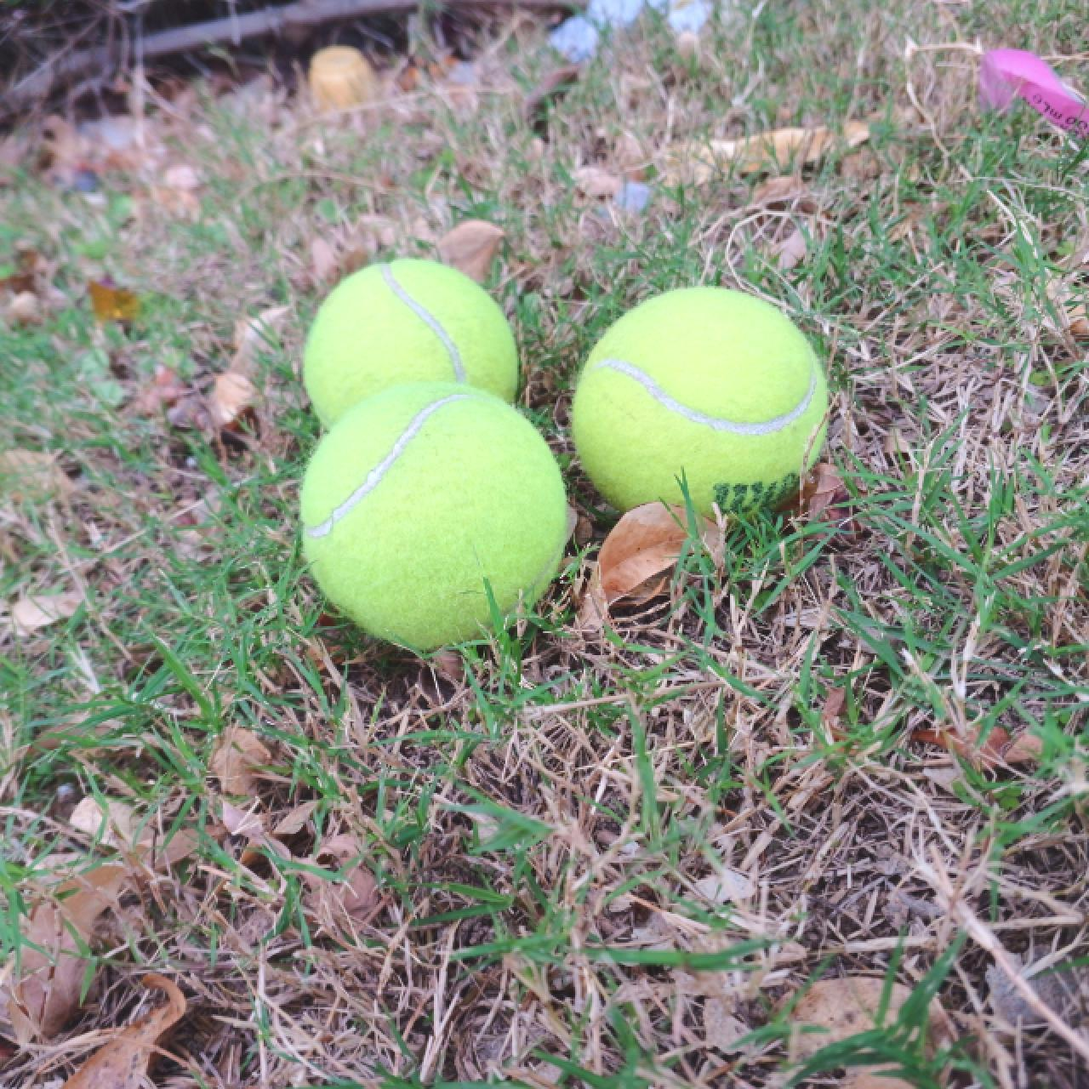tennis-ball: (300, 379, 569, 654), (571, 285, 832, 525), (301, 257, 520, 450)
